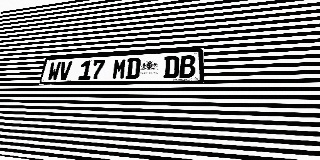plate: (39, 48, 204, 85)
